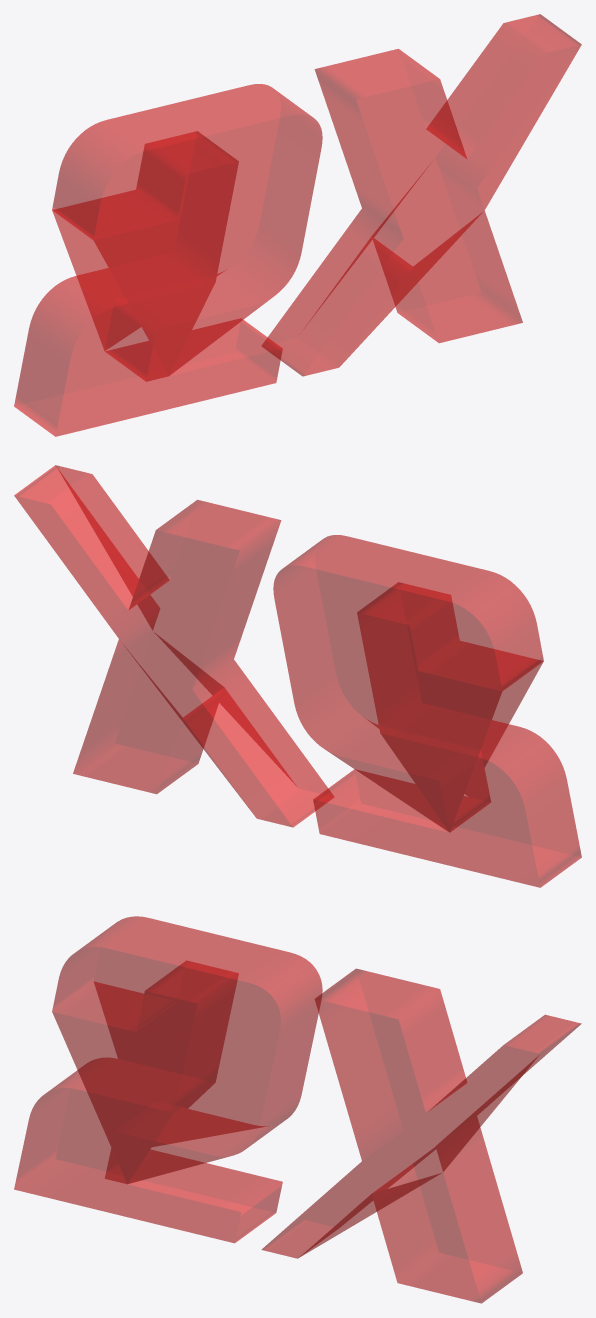
File: DoubleScore.fbx
3 views of the same model, one above another, from view 1: azimuth 30°, elevation 25°; view 2: azimuth 150°, elevation 25°; view 3: azimuth 330°, elevation 25° (orthographic).
Visible parts, largest first — view 1: DoubleScore; view 2: DoubleScore; view 3: DoubleScore.
Part boxes in pixels (bbox=[...]): DoubleScore: bbox=[14, 14, 581, 436]; DoubleScore: bbox=[14, 465, 581, 887]; DoubleScore: bbox=[14, 916, 581, 1303].
Bounding box in the file's own units: 1.83 × 0.8763 × 0.25.
